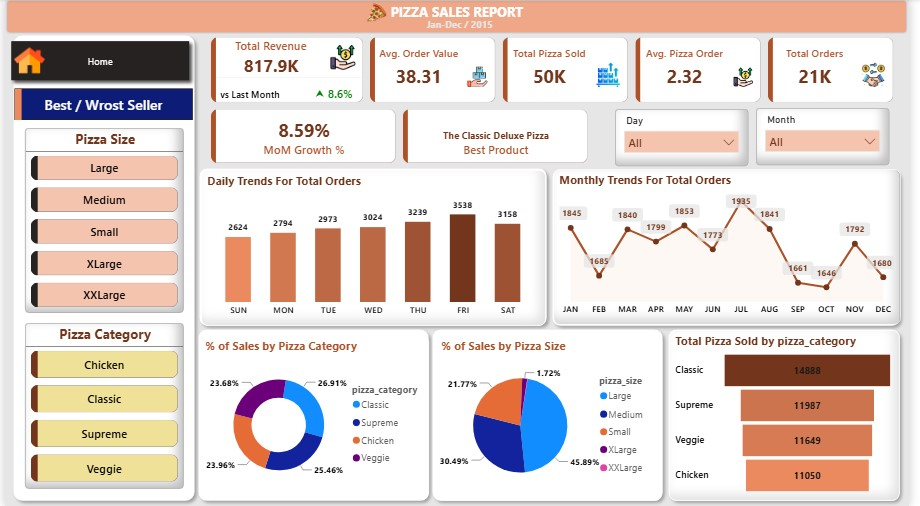

This screenshot's page, from the dashboard's own definition file:
{"tool":"powerbi","page":{"name":"Home","canvas":[1280,720],"ordinal":0},"visuals":[{"type":"shape","box":[2.8,42.5,275,677.5],"z":0},{"type":"cardVisual","fields":{"Data":["pizza_sales.Avg. Order Value","pizza_sales.Total Pizza Sold","pizza_sales.Avg. Pizza Order","pizza_sales.Total Orders"]},"box":[500.3,36.9,779.5,127.6],"z":1000},{"type":"shape","box":[0,0,1280.2,50.4],"z":2000},{"type":"textbox","box":[514.1,0,252,50.4],"z":3000},{"type":"textbox","box":[591.8,23,141.1,27.4],"z":4000},{"type":"shape","box":[266.5,231,510.2,240.9],"z":5000},{"type":"shape","box":[766.8,232.4,510.2,239.5],"z":6000},{"type":"shape","box":[265,459.2,344.4,260.8],"z":7000},{"type":"shape","box":[596.7,459.2,344.4,260.8],"z":8000},{"type":"shape","box":[931.2,459.2,345.8,260.8],"z":9000},{"type":"clusteredColumnChart","title":"Daily Trends For Total Orders ","fields":{"Y":["pizza_sales.Total Orders"],"Category":["pizza_sales.Order Day"]},"box":[277.8,242.4,489,221.1],"z":10000},{"type":"areaChart","title":"Monthly Trends For Total Orders ","fields":{"Y":["pizza_sales.Total Orders"],"Category":["pizza_sales.Order Month"]},"box":[776.7,240.9,493.2,221.1],"z":11000},{"type":"image","box":[473.4,2.8,103.5,34],"z":12000},{"type":"donutChart","title":"% of Sales by Pizza Category","fields":{"Y":["pizza_sales.Total Sales"],"Category":["pizza_sales.pizza_category"]},"box":[275,476.2,326,233.9],"z":13000},{"type":"pieChart","title":"% of Sales by Pizza Size","fields":{"Y":["pizza_sales.Total Sales"],"Category":["pizza_sales.pizza_size"]},"box":[609.4,476.2,321.7,235.3],"z":14000},{"type":"funnel","fields":{"Y":["pizza_sales.Total Pizza Sold"],"Category":["pizza_sales.pizza_category"]},"box":[941.1,469.1,327.4,242.4],"z":15000},{"type":"pageNavigator","box":[0,51,270.7,73.7],"z":16000},{"type":"pageNavigator","box":[11.3,124.7,258,49.6],"z":17000},{"type":"image","box":[12.8,63.8,43.9,46.8],"z":18000},{"type":"advancedSlicerVisual","title":"Pizza Size","fields":{"Values":["pizza_sales.pizza_size"]},"box":[28.3,182.8,225.4,262.2],"z":19000},{"type":"advancedSlicerVisual","title":"Pizza Category","fields":{"Values":["pizza_sales.pizza_category"]},"box":[28.3,459.2,225.4,235.3],"z":20000},{"type":"slicer","fields":{"Values":["Date.Month"]},"box":[1064.4,154.5,188.5,80.8],"z":21000},{"type":"cardVisual","fields":{"Data":["pizza_sales.MoM Growth %","pizza_sales.Best Product"]},"box":[275,138.9,569.8,112],"z":22000},{"type":"slicer","fields":{"Values":["pizza_sales.Day Name"]},"box":[864.6,155.9,188.5,80.8],"z":23000},{"type":"cardVisual","fields":{"Data":["pizza_sales.Total Revenue"]},"box":[275,36.9,250.9,127],"z":24000}]}

Visuals, with their boxes in screenshot pixels (x1, y1, x2, y2), scaled from the page's 1280x720 canvas onto the 920x506 screenshot:
shape: crop(2, 30, 200, 505)
cardVisual - pizza_sales.Avg. Order Value x pizza_sales.Total Pizza Sold: crop(360, 26, 919, 116)
shape: crop(0, 0, 919, 35)
textbox: crop(370, 0, 551, 35)
textbox: crop(425, 16, 527, 35)
shape: crop(192, 162, 558, 332)
shape: crop(551, 163, 918, 332)
shape: crop(190, 323, 438, 505)
shape: crop(429, 323, 676, 505)
shape: crop(669, 323, 918, 505)
"Daily Trends For Total Orders " clusteredColumnChart: crop(200, 170, 551, 326)
"Monthly Trends For Total Orders " areaChart: crop(558, 169, 913, 325)
image: crop(340, 2, 415, 26)
"% of Sales by Pizza Category" donutChart: crop(198, 335, 432, 499)
"% of Sales by Pizza Size" pieChart: crop(438, 335, 669, 500)
funnel - pizza_sales.Total Pizza Sold x pizza_sales.pizza_category: crop(676, 330, 912, 500)
pageNavigator: crop(0, 36, 195, 88)
pageNavigator: crop(8, 88, 194, 122)
image: crop(9, 45, 41, 78)
"Pizza Size" advancedSlicerVisual: crop(20, 128, 182, 313)
"Pizza Category" advancedSlicerVisual: crop(20, 323, 182, 488)
slicer - Date.Month: crop(765, 109, 901, 165)
cardVisual - pizza_sales.MoM Growth % x pizza_sales.Best Product: crop(198, 98, 607, 176)
slicer - pizza_sales.Day Name: crop(621, 110, 757, 166)
cardVisual - pizza_sales.Total Revenue: crop(198, 26, 378, 115)
